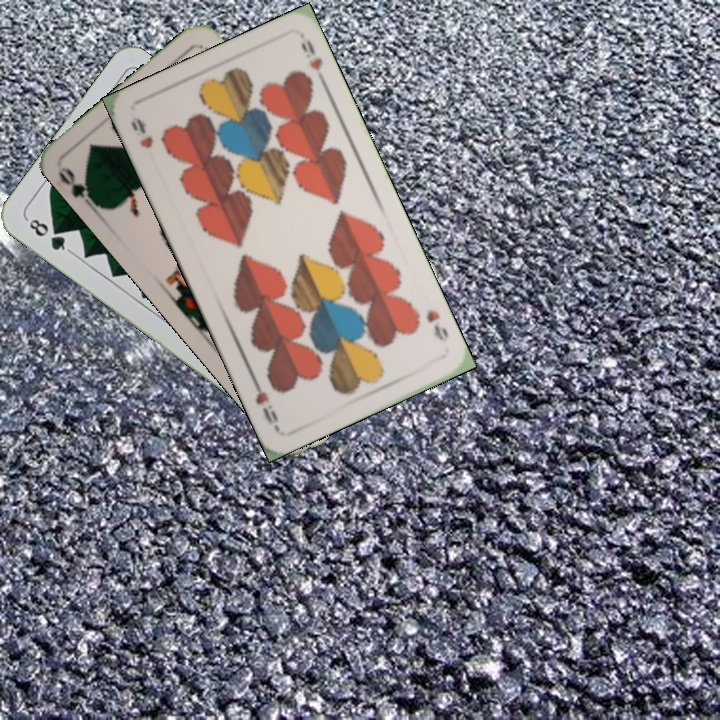G8: (22, 214, 74, 255)
GO: (54, 163, 104, 215)
H9: (422, 306, 452, 345), (126, 113, 156, 151)
